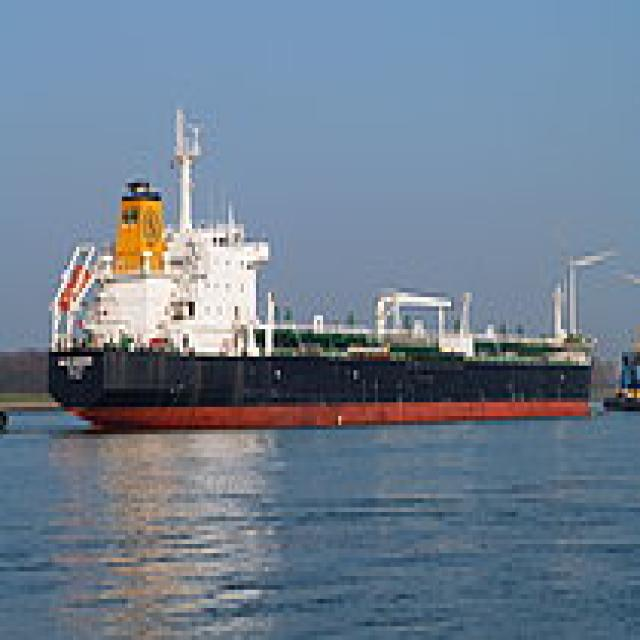Tanker: (43, 105, 591, 421)
